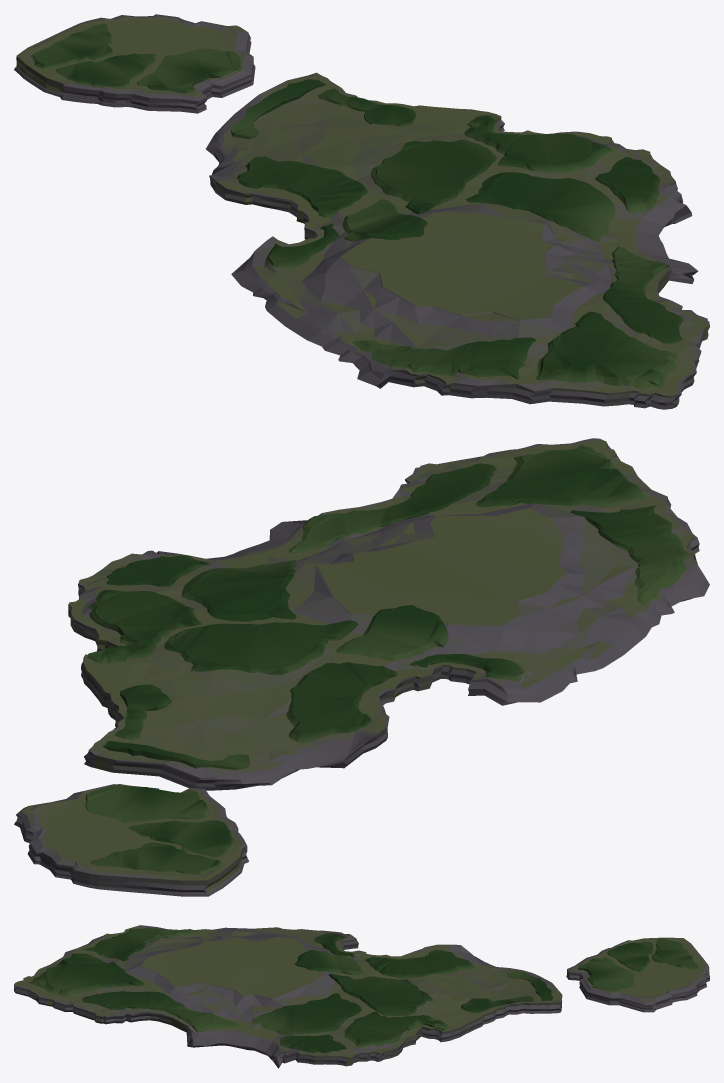
File: island.fbx
3 renders of one model, top to bottom at view 1: azimuth 30°, elevation 25°; view 2: azimuth 150°, elevation 25°; view 3: azimuth 270°, elevation 25°, orthographic. The views are drawn at different scales.
Visible parts, largest first — view 1: PolyShape, DarkLand, foresst-10, foresst-2, foresst-4, foresst-9, foresst-3, foresst-1, foresst-6, part-2, foresst-7, foresst-5 (+5 smaller); view 2: PolyShape, DarkLand, foresst-2, foresst-10, foresst-1, foresst-6, foresst-9, foresst-4, foresst-3, foresst-7, part-2, part-4 (+5 smaller); view 3: PolyShape, DarkLand, foresst-10, foresst-4, foresst-2, foresst-6, foresst-3, foresst-1, foresst-9, part-2, foresst-7, part-1 (+5 smaller).
Part boxes in pixels (x1=…): PolyShape: x1=206, y1=72, x2=709, y2=409; DarkLand: x1=14, y1=14, x2=255, y2=113; foresst-10: x1=535, y1=311, x2=677, y2=388; foresst-2: x1=371, y1=140, x2=496, y2=214; foresst-4: x1=465, y1=172, x2=615, y2=242; foresst-9: x1=352, y1=337, x2=536, y2=379; foresst-3: x1=464, y1=114, x2=613, y2=172; foresst-1: x1=237, y1=156, x2=367, y2=217; foresst-6: x1=603, y1=246, x2=683, y2=343; part-2: x1=137, y1=48, x2=240, y2=93; foresst-7: x1=342, y1=199, x2=427, y2=241; foresst-5: x1=595, y1=157, x2=659, y2=212; PolyShape: x1=68, y1=438, x2=709, y2=790; DarkLand: x1=14, y1=784, x2=248, y2=896; foresst-2: x1=164, y1=620, x2=358, y2=675; foresst-10: x1=476, y1=445, x2=646, y2=507; foresst-1: x1=286, y1=662, x2=397, y2=742; foresst-6: x1=289, y1=463, x2=496, y2=553; foresst-9: x1=570, y1=505, x2=690, y2=604; foresst-4: x1=182, y1=560, x2=296, y2=621; foresst-3: x1=87, y1=589, x2=202, y2=663; foresst-7: x1=336, y1=605, x2=448, y2=661; part-2: x1=85, y1=784, x2=208, y2=822; part-4: x1=90, y1=842, x2=221, y2=874; PolyShape: x1=14, y1=925, x2=562, y2=1068; DarkLand: x1=566, y1=937, x2=709, y2=1012; foresst-10: x1=28, y1=953, x2=144, y2=996; foresst-4: x1=252, y1=993, x2=361, y2=1034; foresst-2: x1=328, y1=974, x2=432, y2=1015; foresst-6: x1=82, y1=991, x2=240, y2=1032; foresst-3: x1=344, y1=1011, x2=448, y2=1046; foresst-1: x1=365, y1=950, x2=474, y2=978; foresst-9: x1=83, y1=927, x2=199, y2=961; part-2: x1=578, y1=957, x2=635, y2=991; foresst-7: x1=294, y1=950, x2=365, y2=975; part-1: x1=607, y1=942, x2=653, y2=972.
Bounding box in the file's own units: 14013 × 1126 × 29494.
Materials: 2 (2 with a texture image).
